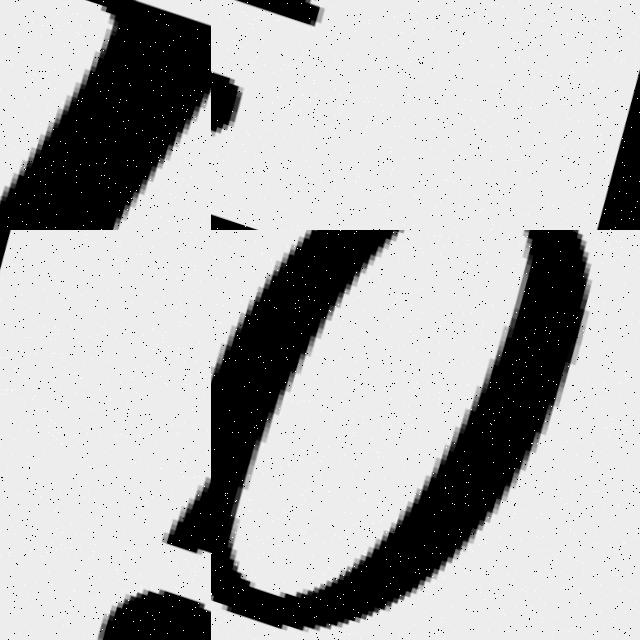0: (211, 230, 640, 640)
I: (51, 230, 211, 640), (211, 0, 517, 185)
R: (0, 0, 211, 230)
